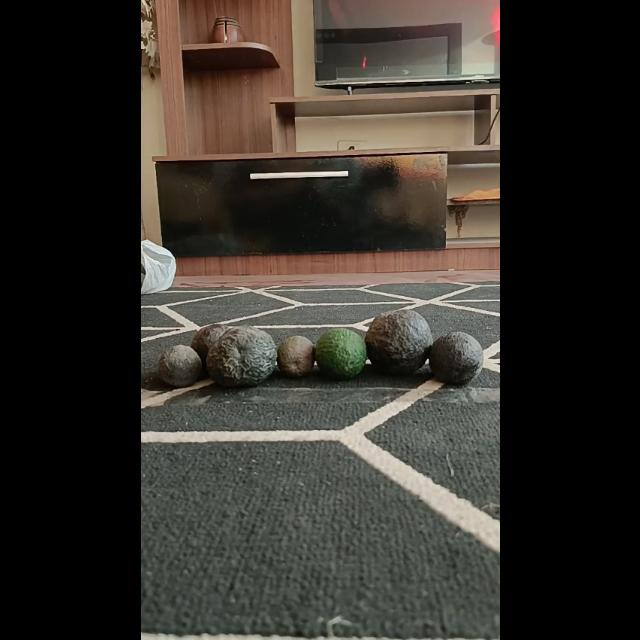Primera: (205, 326, 277, 388), (364, 310, 432, 374)
Segunda: (428, 331, 482, 385), (314, 328, 366, 379)
Tercera: (156, 344, 202, 388), (276, 335, 314, 377)
